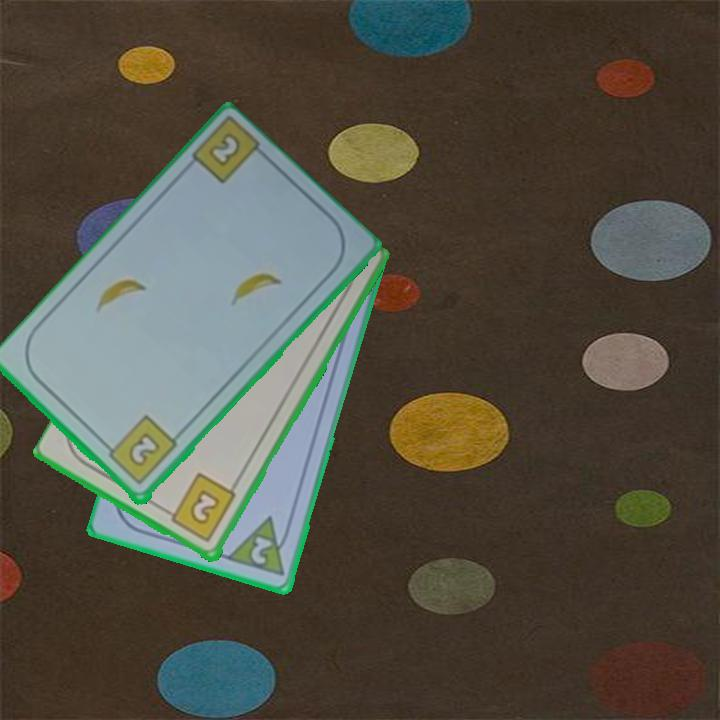2b: (100, 412, 180, 488), (161, 470, 239, 546), (204, 128, 244, 171)
2p: (224, 513, 295, 580)
